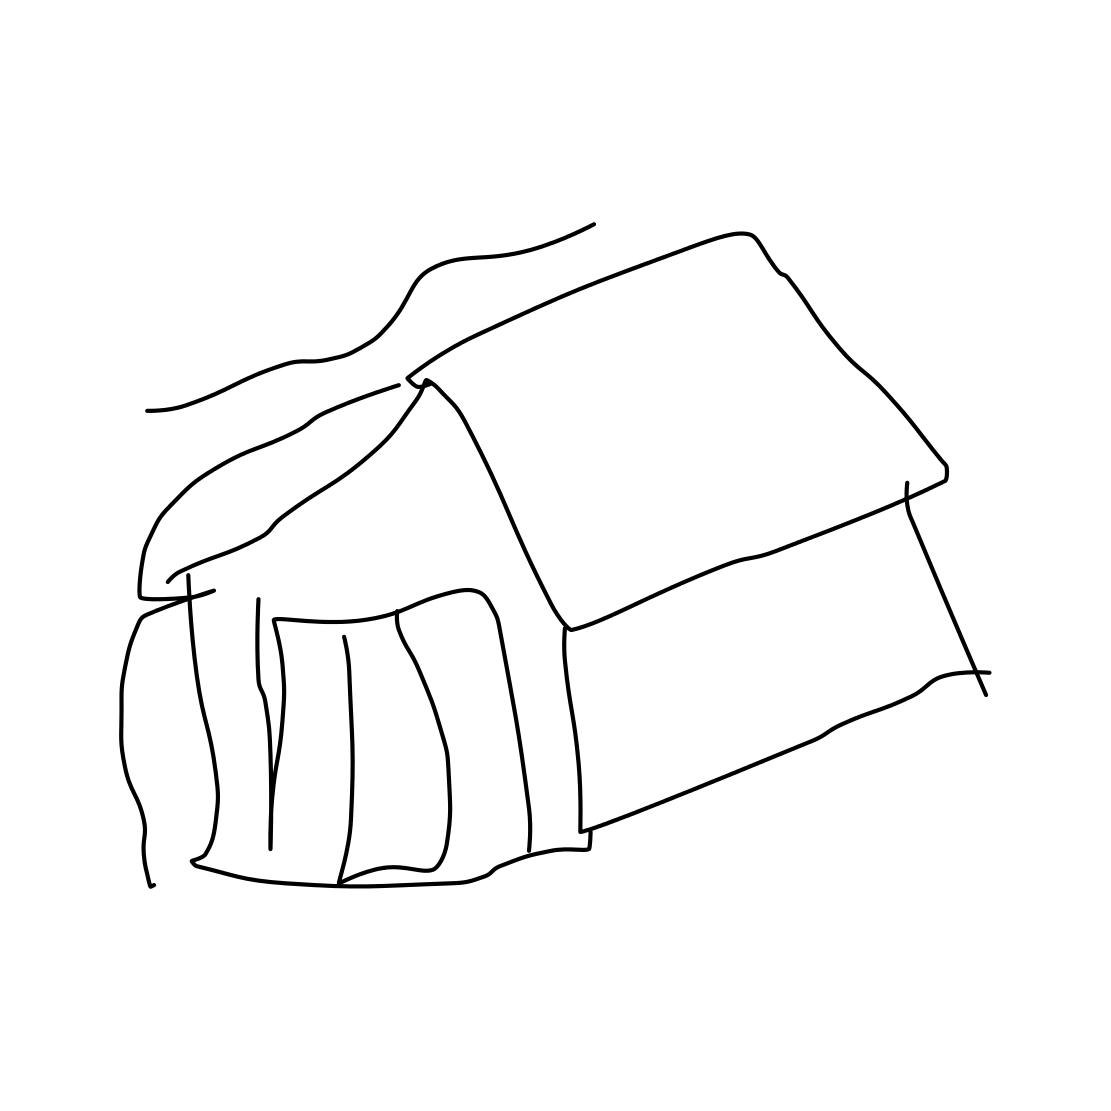House: (44, 219, 1028, 888)
